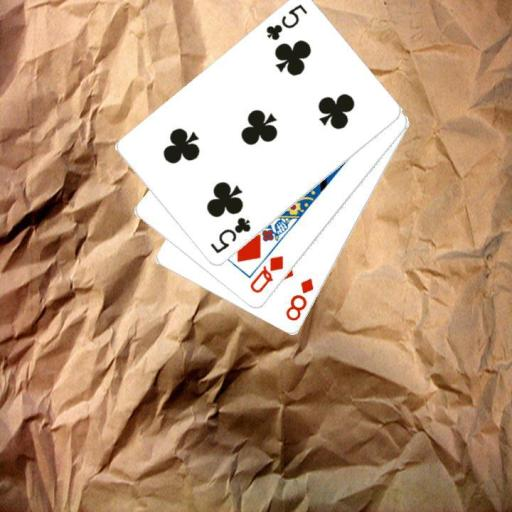5C: (207, 214, 252, 256), (263, 2, 309, 43)
8D: (282, 274, 316, 323)
QD: (247, 253, 285, 295)
